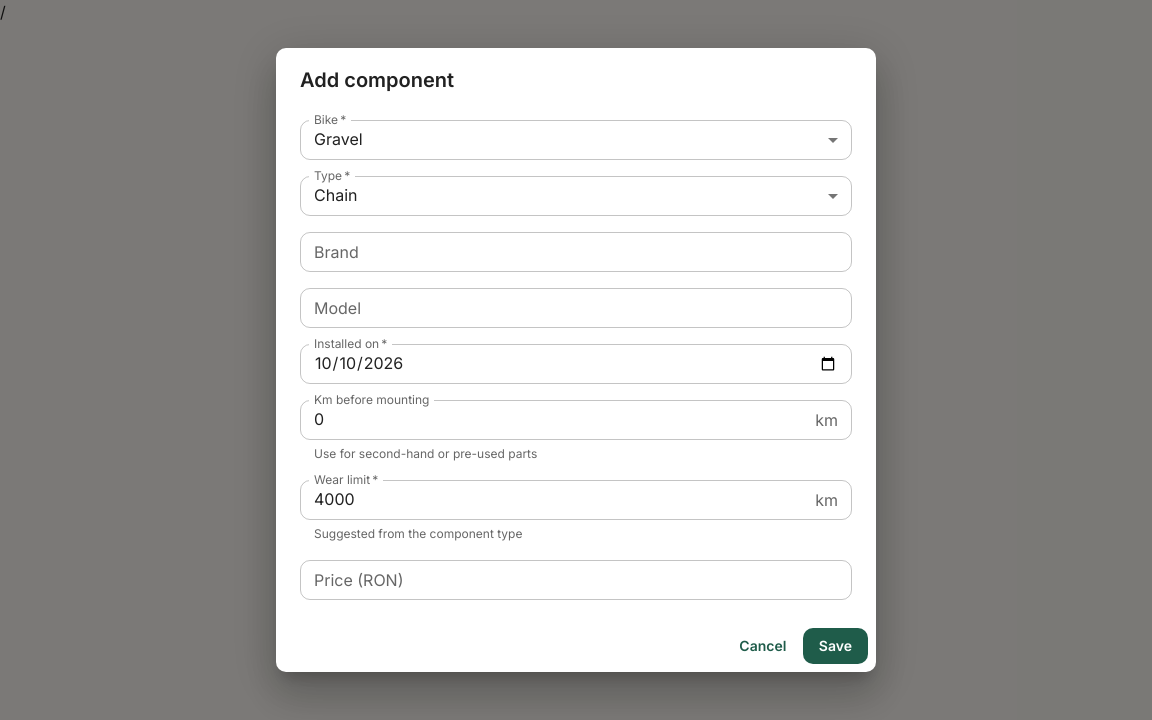
Test: ComponentFormDialog › creates the part with the chosen bike
expect the number field labelled "Wear limit *" holds "4000": met, box x1=300 y1=480 x2=807 y2=520
In the field labelled "Brand": x=576, y=252 x1=300 y1=232 x2=852 y2=272, type "KMC"
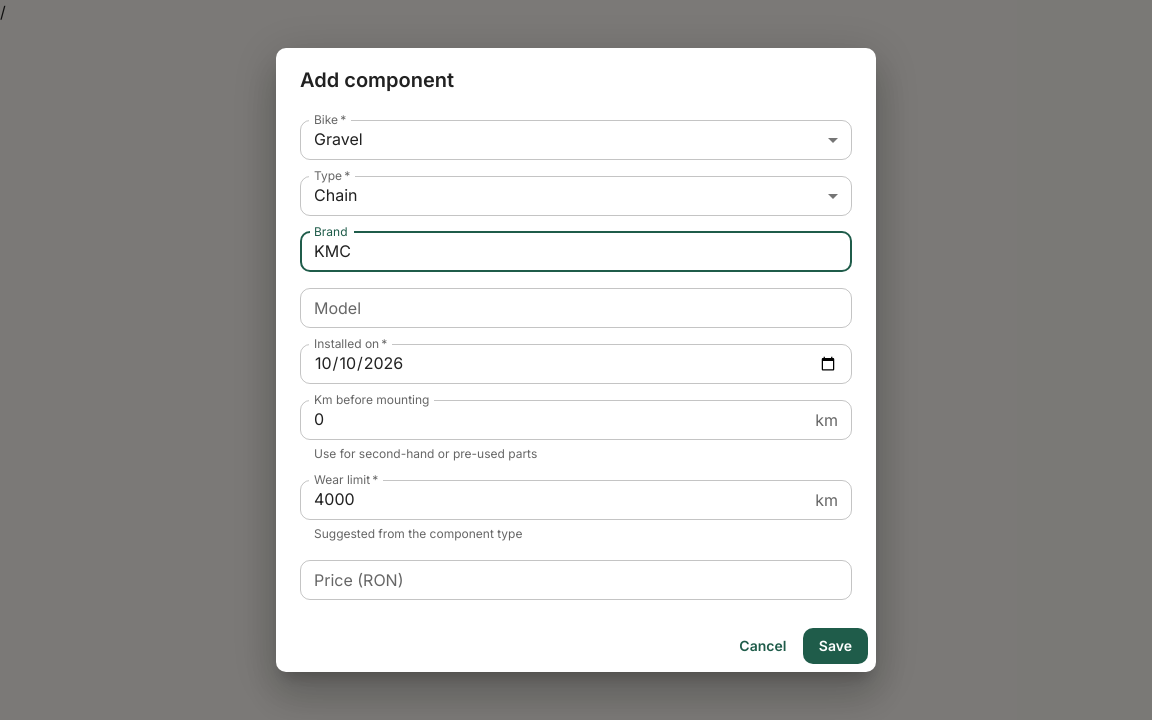
Click the button "Save": x=835, y=646 x1=803 y1=628 x2=868 y2=664
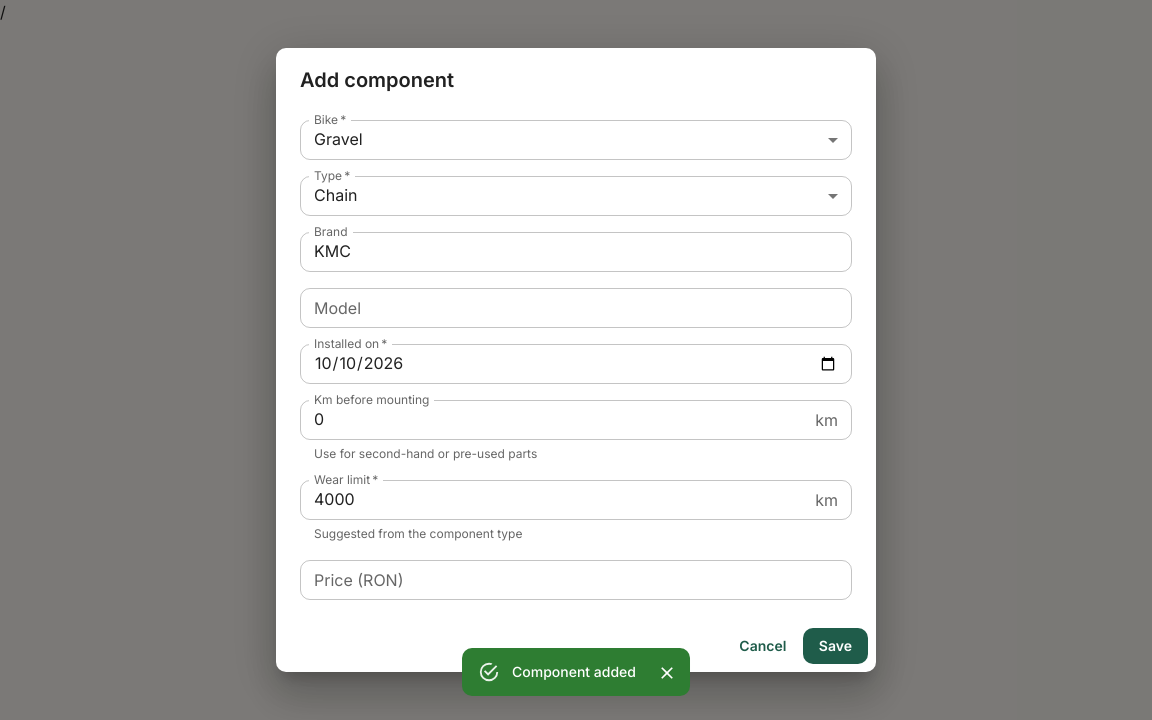
expect the text "Component added" is shown: met, box x1=512 y1=663 x2=636 y2=680
